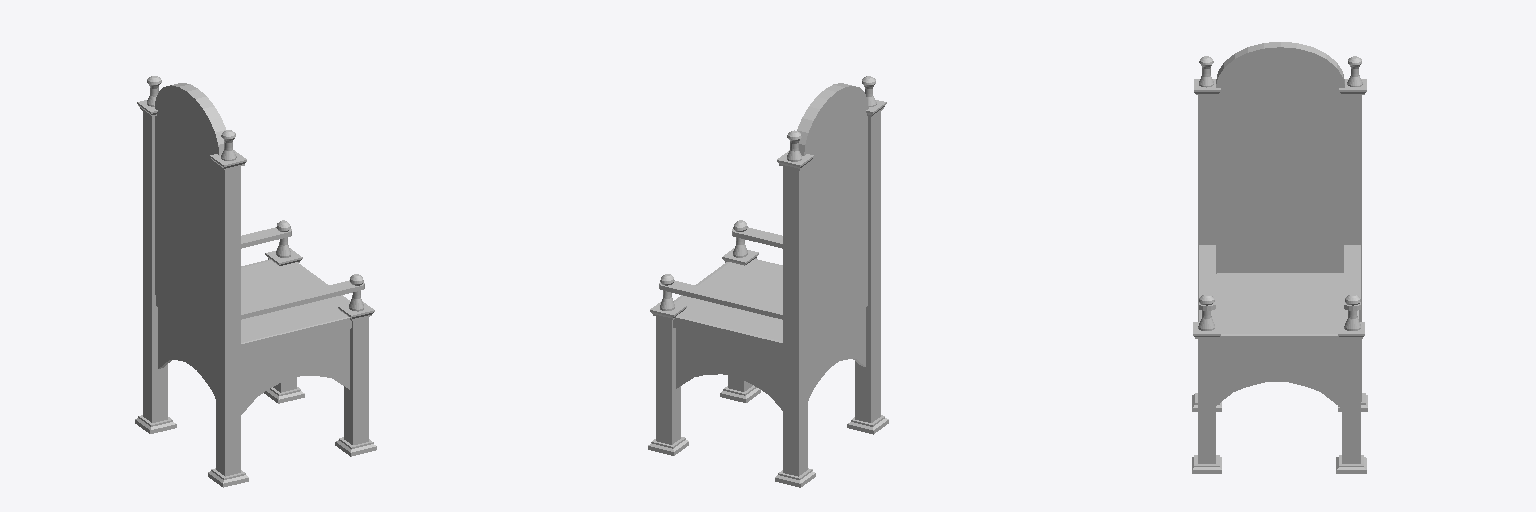
The model's file is chair_low.obj.
3 views of the same model, side by side, from view 1: azimuth 30°, elevation 25°; view 2: azimuth 150°, elevation 25°; view 3: azimuth 270°, elevation 25° (orthographic).
Parts seen in each view (by area): view 1: Cube.012; view 2: Cube.012; view 3: Cube.012.
Boxes of the visible parts, box(x1,y1,x2,y2) form: Cube.012: box(135, 76, 376, 487); Cube.012: box(648, 76, 888, 487); Cube.012: box(1192, 42, 1367, 473).
Size of the model in its own units: 2.2 by 4.96 by 2.19.